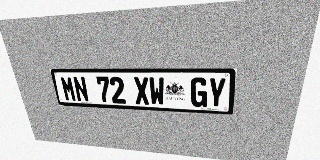2: (109, 77, 126, 104)
7: (95, 77, 112, 103)
G: (190, 77, 208, 107)
M: (60, 76, 77, 102)
N: (72, 76, 90, 102)
W: (148, 77, 165, 105)
X: (133, 77, 150, 105)
Y: (207, 78, 226, 108)
